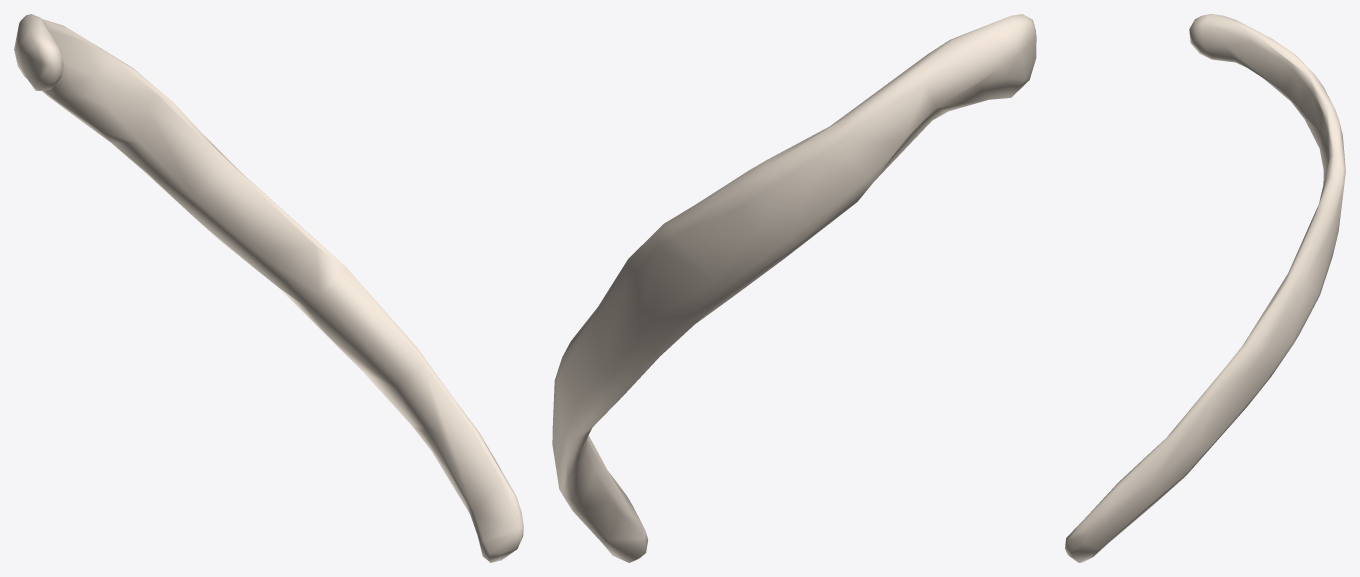
Rendered from left_rib_11.glb.
The picture shows the model from 3 angles, left to right: view 1: azimuth 30°, elevation 25°; view 2: azimuth 150°, elevation 25°; view 3: azimuth 270°, elevation 25°; orthographic projection. The views are drawn at different scales.
Visible parts, largest first — view 1: Rib (11th).r; view 2: Rib (11th).r; view 3: Rib (11th).r.
Boxes of the visible parts, x1,y1,x2,y2 form: Rib (11th).r: [14, 14, 523, 562]; Rib (11th).r: [552, 14, 1036, 562]; Rib (11th).r: [1065, 14, 1345, 562].
Bounding box in the file's own units: 0.0995 × 0.1302 × 0.08.
